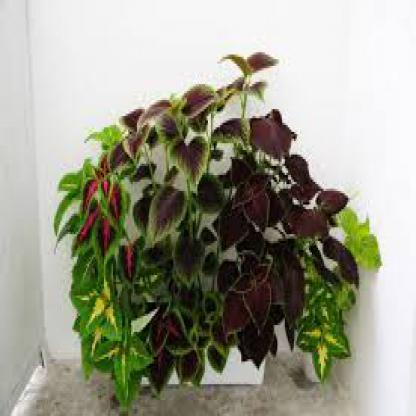Bunga Coleus: (66, 62, 349, 383)
